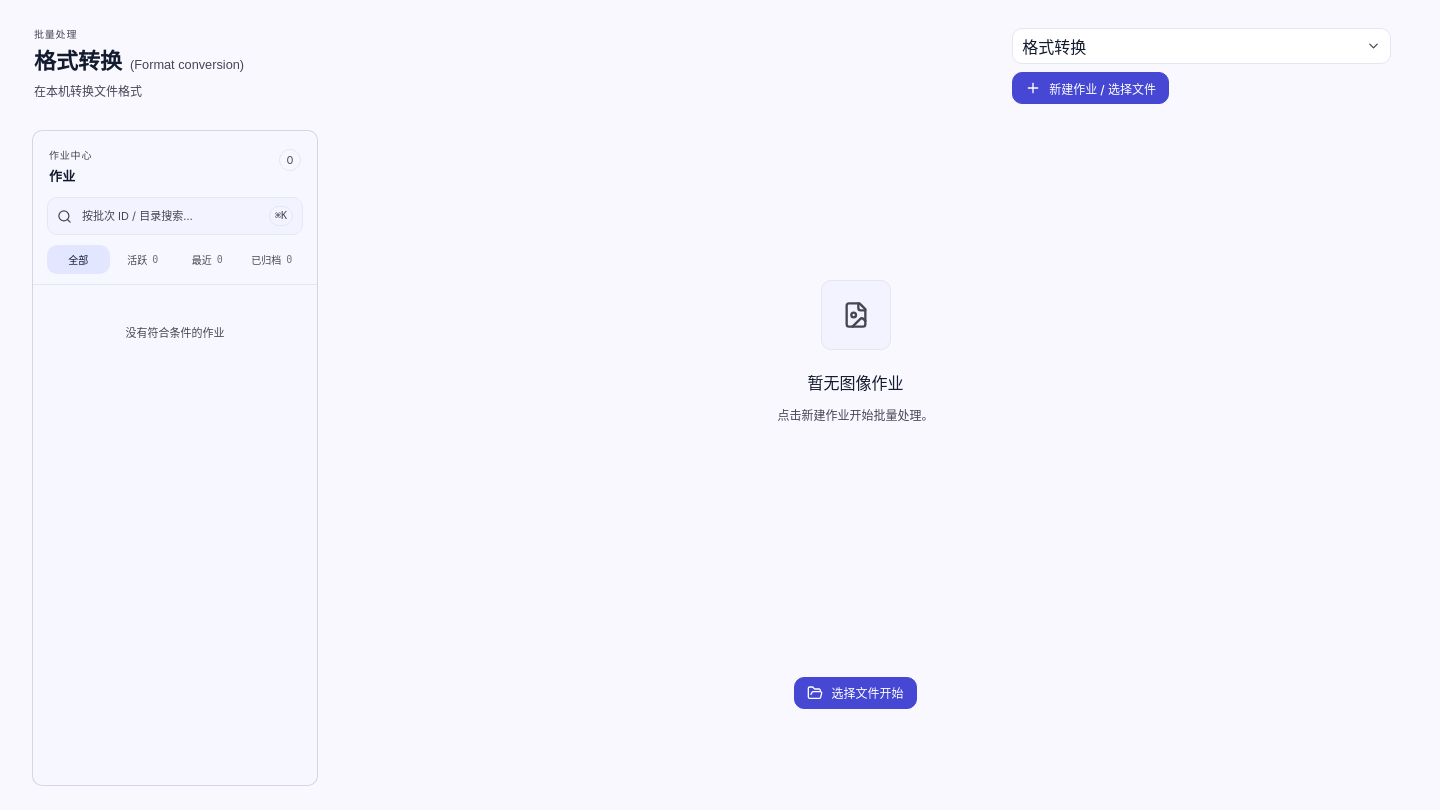
Test: exposes a JPEG background for local conversion tools
What coordinates should you click on to do the following:
click the button "新建作业 / 选择文件"
I would click on:
 (1091, 88)
Its box is [1012, 72, 1169, 104].
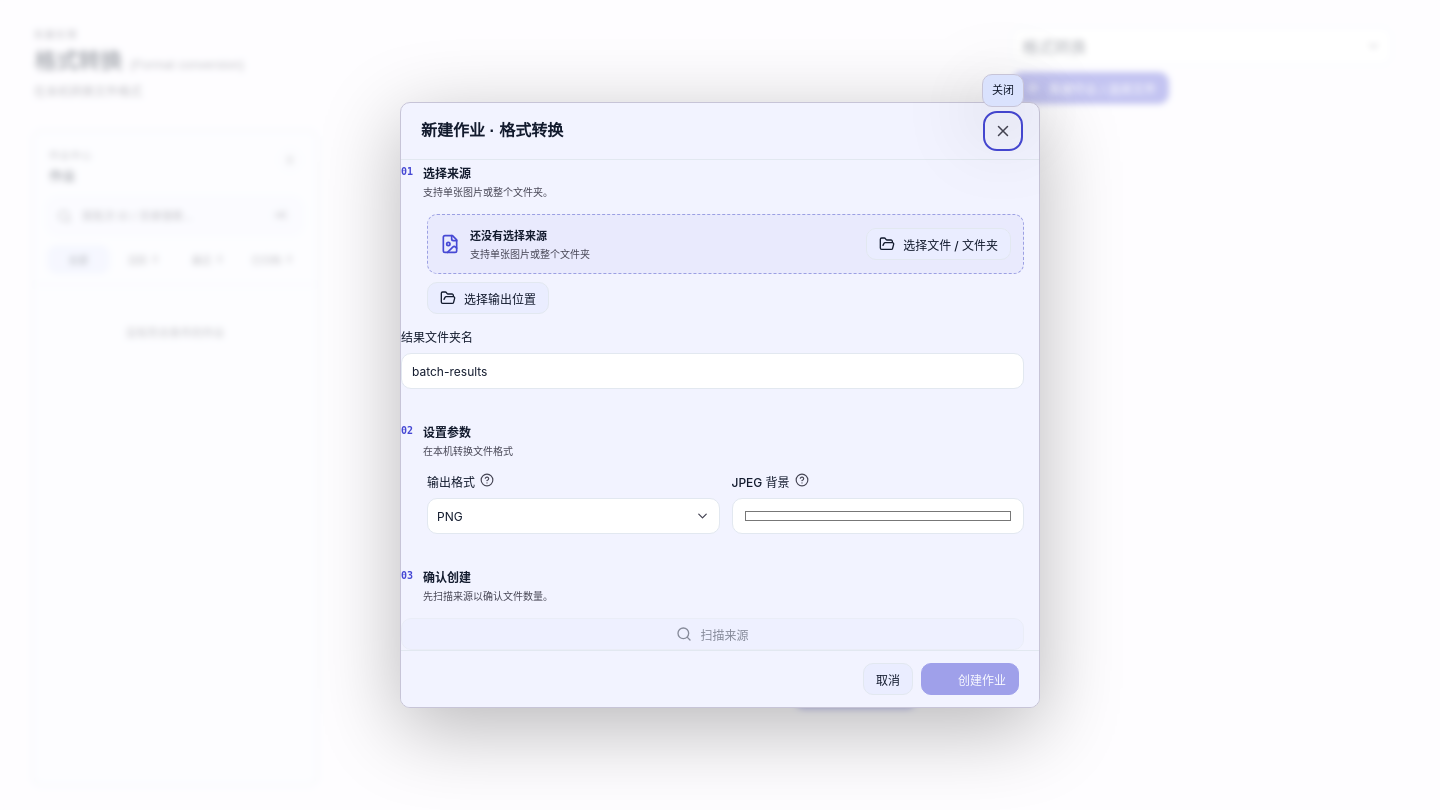
Expected: the dropdown labelled "输出格式" is shown, [427, 498, 720, 534]
Expected: the colour field labelled "JPEG 背景" is shown, [732, 498, 1024, 534]
